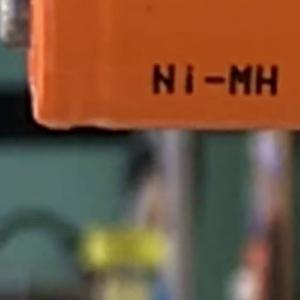NI-MH: (142, 55, 288, 104)
